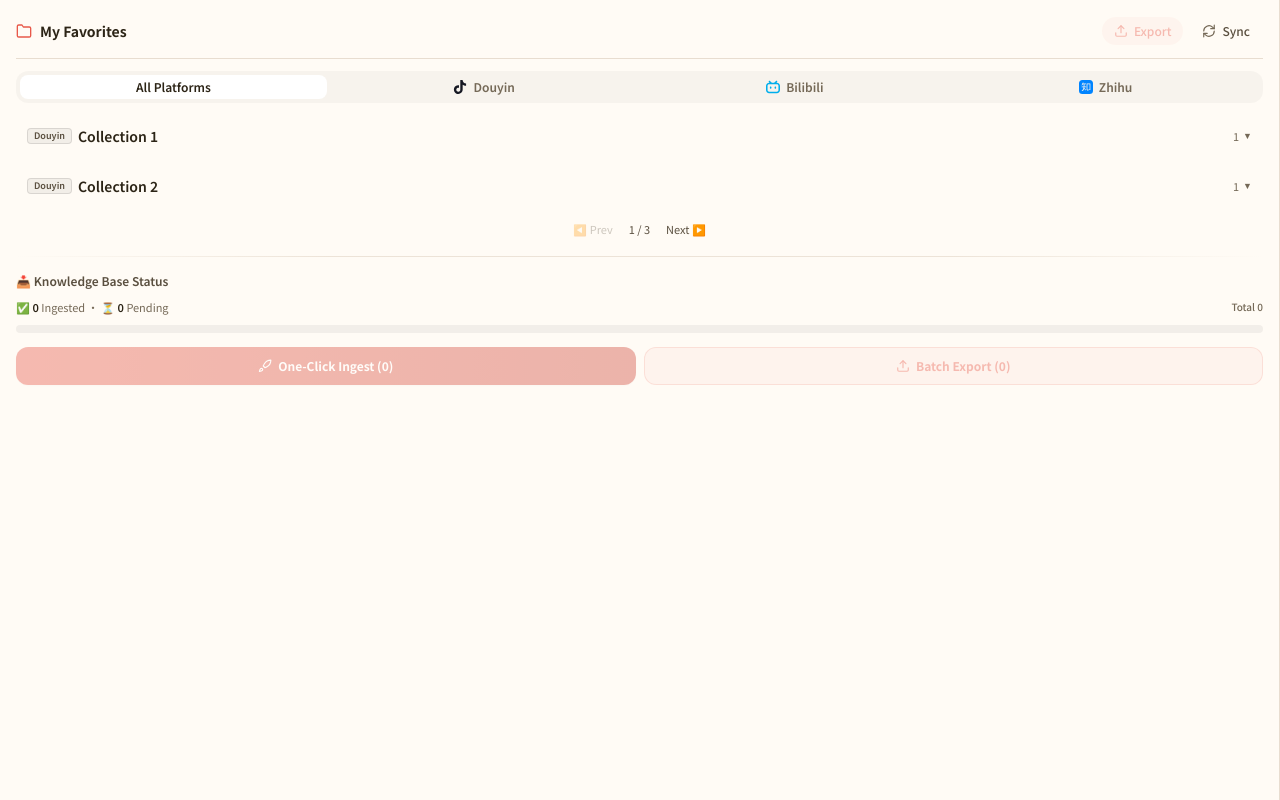
Test: P1 — the collection-page reset cannot swallow a click that lands right after the list commits (AC1) › P1a. reaches page 2 even when the click lands before any passive effect has flushed
The image size is (1280, 800).
Click the button "Next ▶": (686, 229) [658,219,714,240]
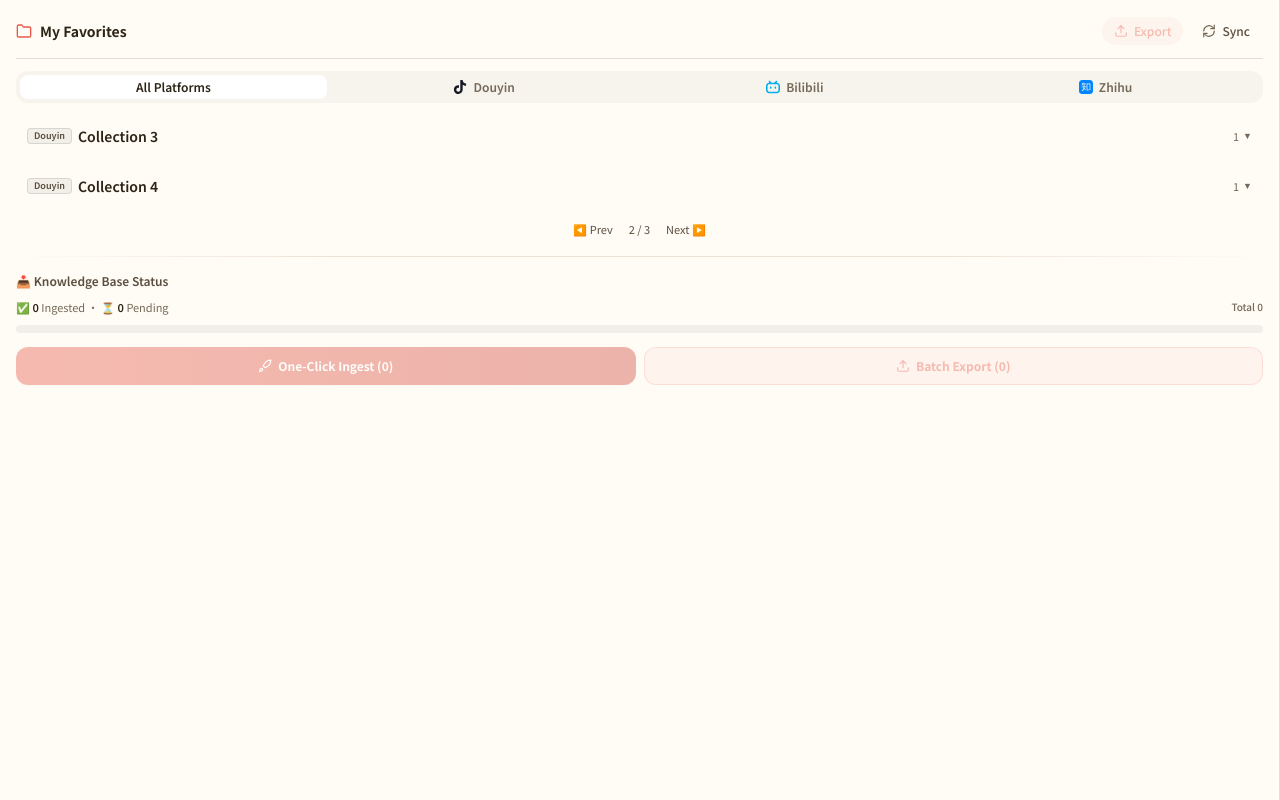
expect the text "Collection 3" is shown: met, box [78,126,158,146]
